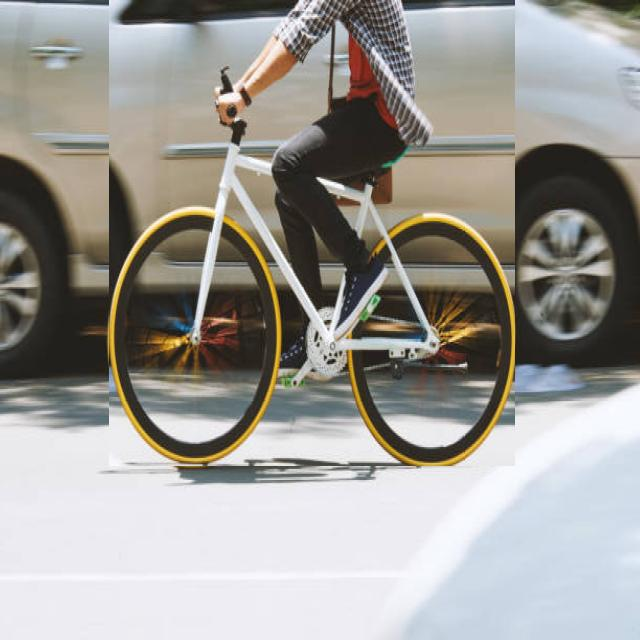bicycle: (109, 0, 515, 466)
